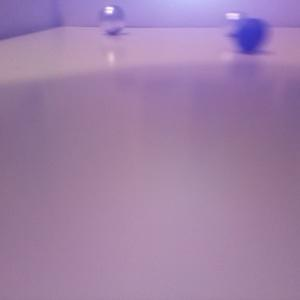alive_ball: (98, 4, 126, 33), (222, 11, 249, 36)
dead_ball: (237, 18, 268, 52)
